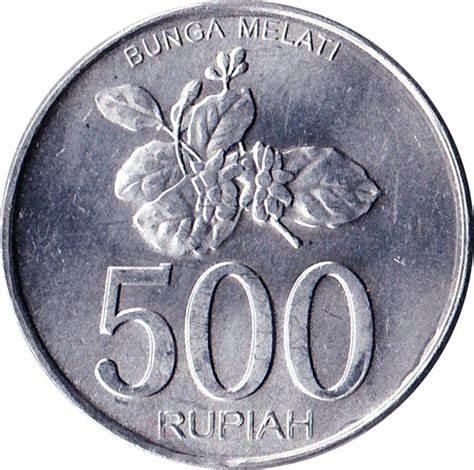coin_500_e2003: (8, 0, 474, 470)
